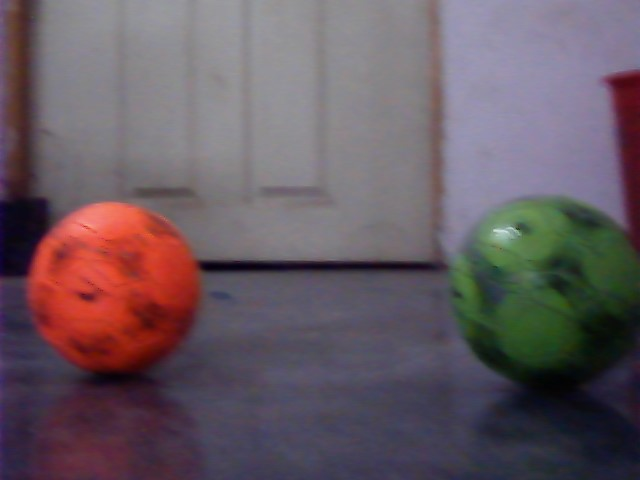Green_ball: (443, 194, 640, 378)
Orange_ball: (22, 198, 211, 379)
